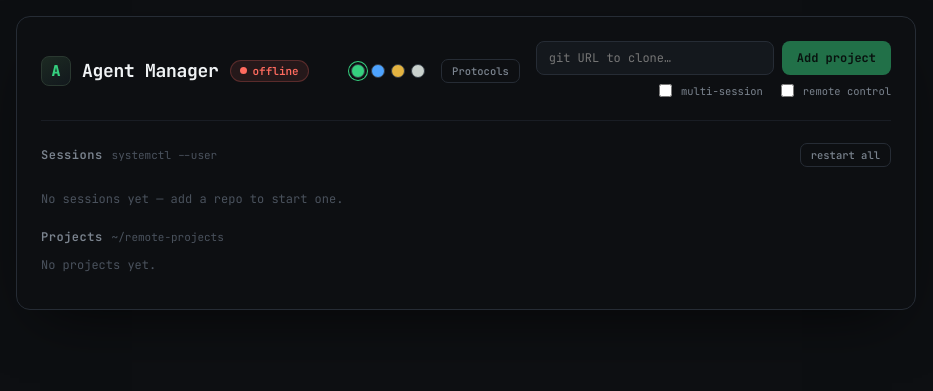
a different-repo folder offers replace only — reusing a stranger is meaningless
Type "https://example.com/foo.git" into the field with placeholder "git URL to clone…" at [655, 58], box 536,41 -> 774,75
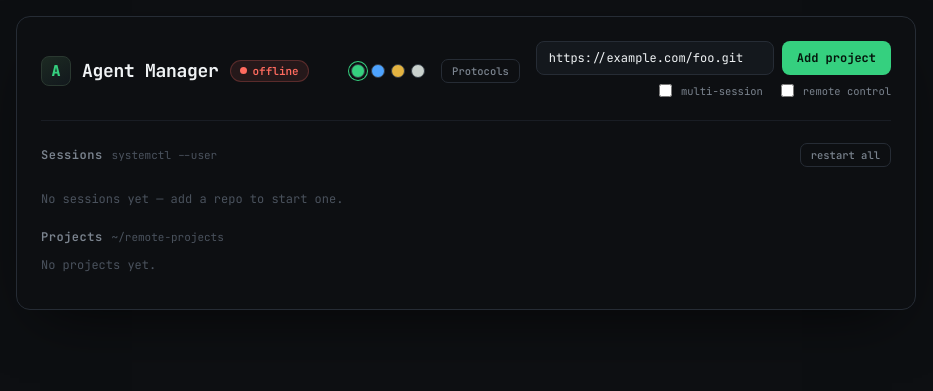
Click the button "Add project" at [836, 58], box 782,41 -> 891,75
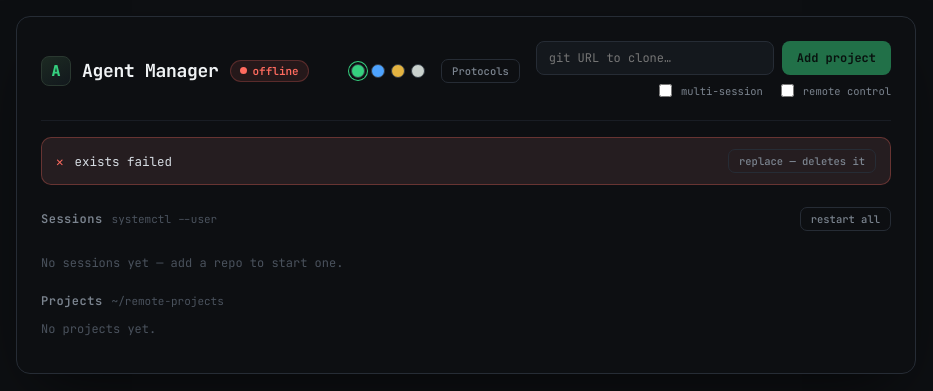
Expected: the button "replace — deletes it" is shown, 728,149 -> 876,173
